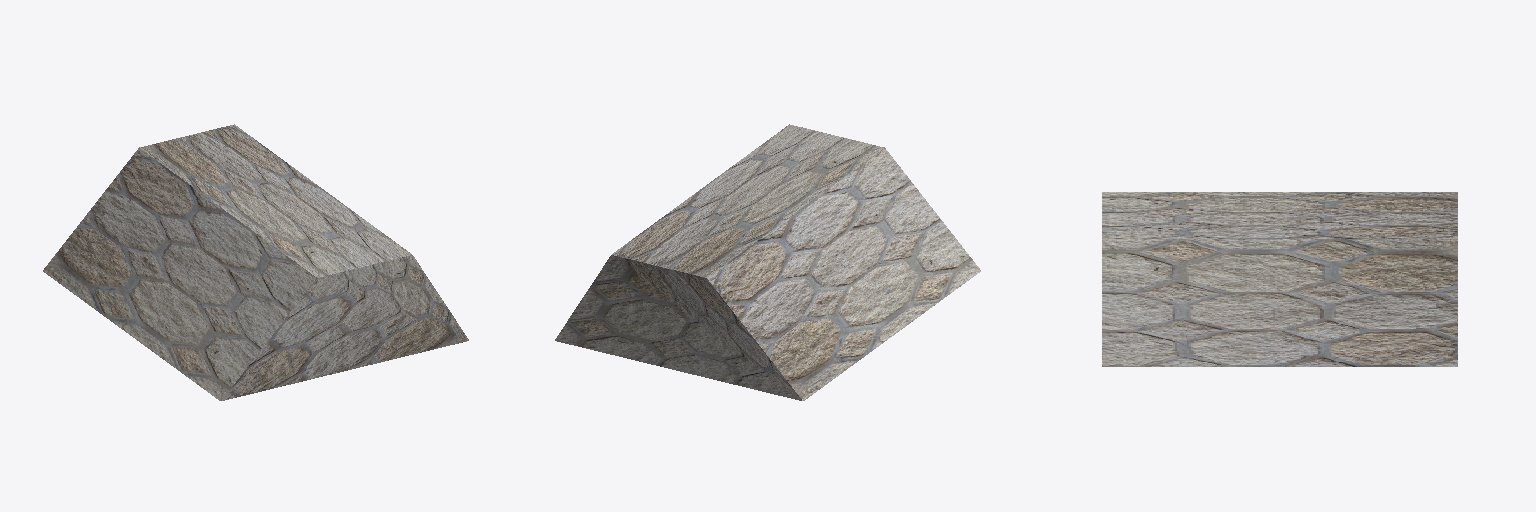
The picture shows the model from 3 angles: view 1: azimuth 30°, elevation 25°; view 2: azimuth 150°, elevation 25°; view 3: azimuth 270°, elevation 25°; orthographic projection.
Parts seen in each view (by area): view 1: Cube; view 2: Cube; view 3: Cube.
Boxes of the visible parts, x1,y1,x2,y2 form: Cube: [43, 124, 468, 400]; Cube: [555, 124, 980, 400]; Cube: [1102, 192, 1457, 366].
Size of the model in its own units: 1.33 by 0.5116 by 1.65.
Materials: 1 (1 with a texture image).